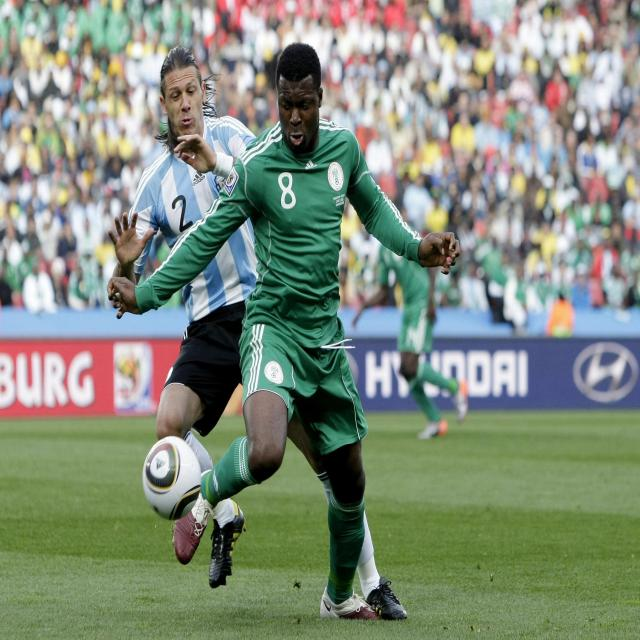ball: (135, 426, 207, 522)
